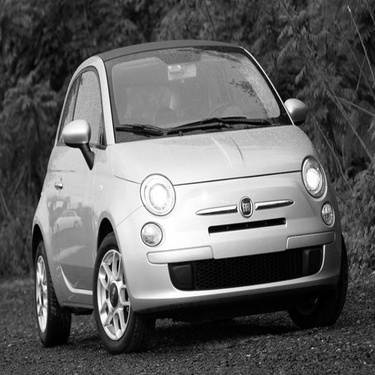car: (20, 35, 353, 358)
